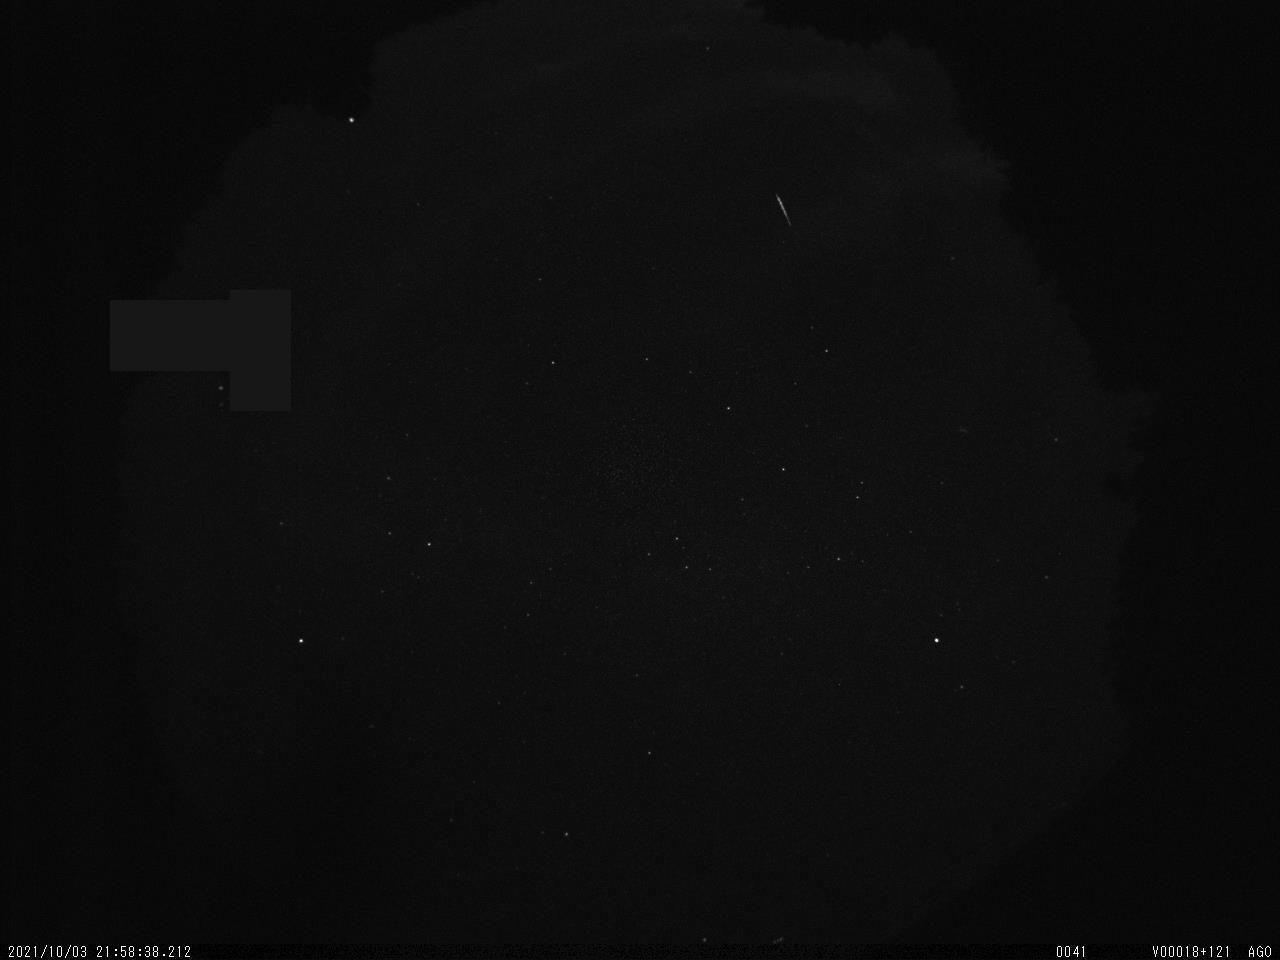meteor: (775, 193, 793, 229)
